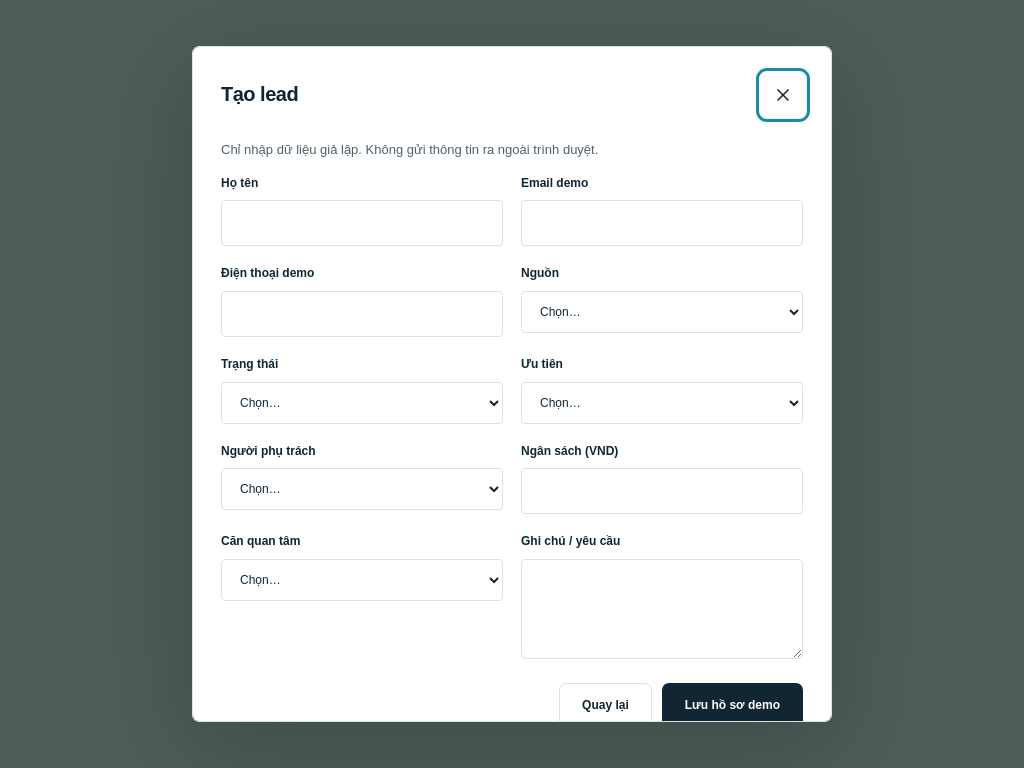
Test: UI components › form rejects duplicate email and keeps entered data
This screenshot has width=1024, height=768.
Type "Khách trùng" into the field labelled "Họ tên" at (362, 223), box x1=221 y1=200 x2=503 y2=246
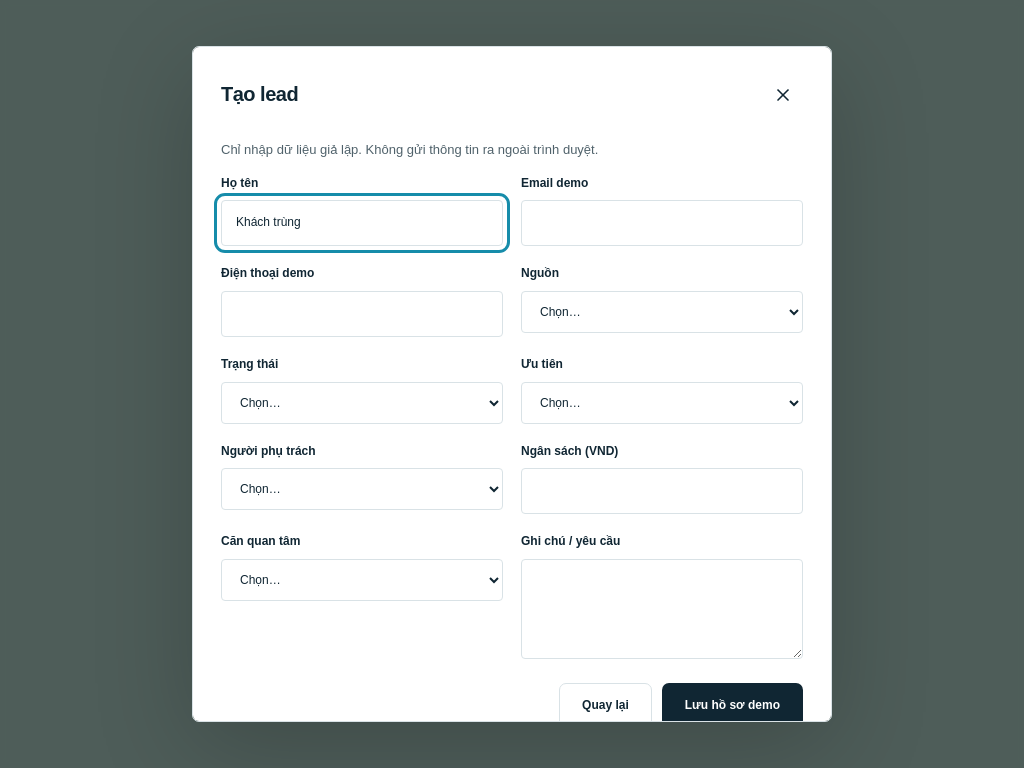
Type "minhanh@example.test" into the field labelled "Email demo" at (662, 223), box x1=521 y1=200 x2=803 y2=246
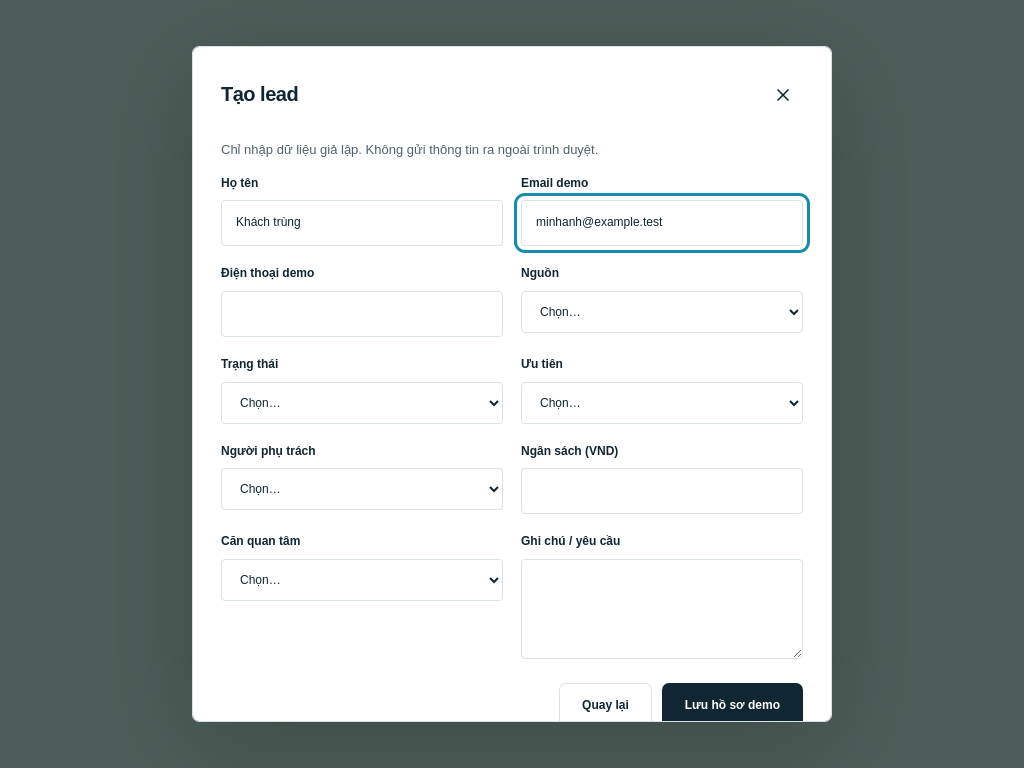
Click the button "Lưu hồ sơ demo" at (732, 706), box x1=662 y1=683 x2=803 y2=729
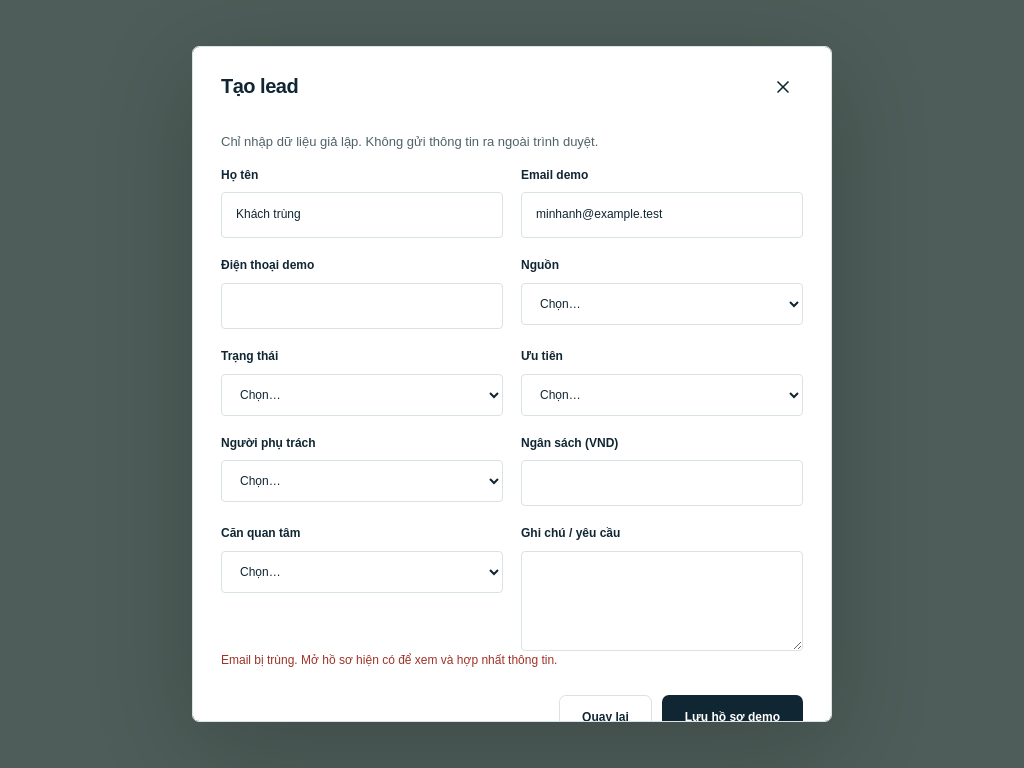
Expected: the message shows "trùng", x1=221 y1=653 x2=558 y2=667
